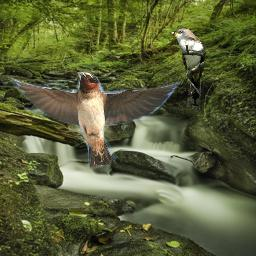Cuckoo: (168, 28, 207, 109)
Swallow: (6, 71, 182, 169)
